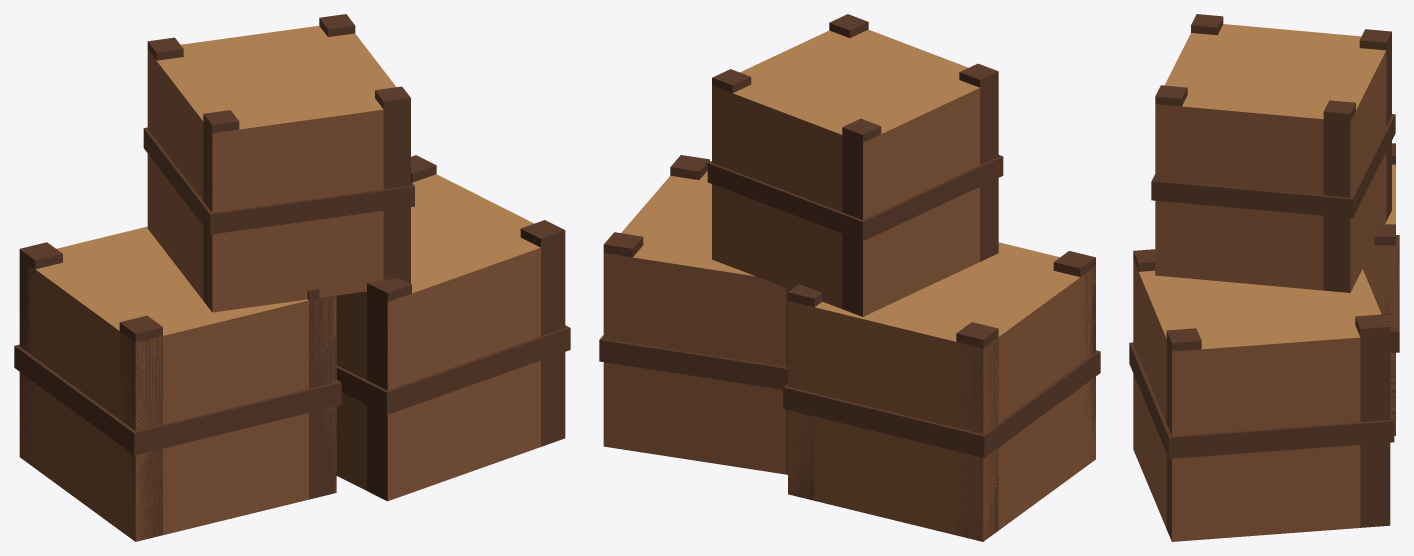
Rendered from CA_Cajas_Apiladas.obj.
The picture shows the model from 3 angles, left to right: view 1: azimuth 30°, elevation 25°; view 2: azimuth 150°, elevation 25°; view 3: azimuth 270°, elevation 25°; orthographic projection. The views are drawn at different scales.
Visible parts, largest first — view 1: CA_Cajas_Apiladas; view 2: CA_Cajas_Apiladas; view 3: CA_Cajas_Apiladas.
Boxes of the visible parts, box(x1,y1,x2,y2) form: CA_Cajas_Apiladas: box(14, 14, 570, 541); CA_Cajas_Apiladas: box(599, 14, 1100, 541); CA_Cajas_Apiladas: box(1129, 14, 1399, 541).
Size of the model in its own units: 2.06 by 1.75 by 1.16.
